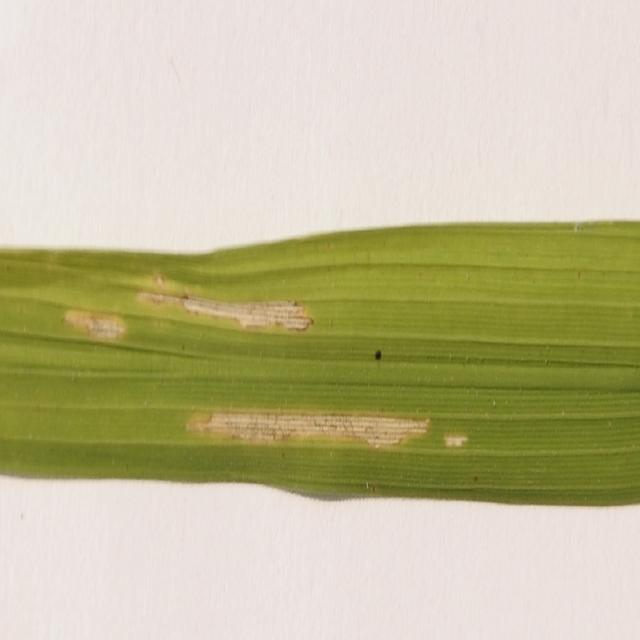leaf blight: (134, 263, 318, 348), (179, 397, 430, 458), (63, 289, 128, 362), (442, 416, 469, 462)
